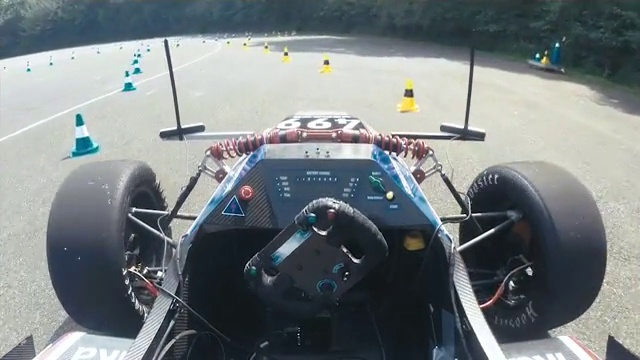Cone: (70, 112, 98, 158), (398, 80, 420, 114), (121, 70, 139, 93), (320, 54, 333, 75)
